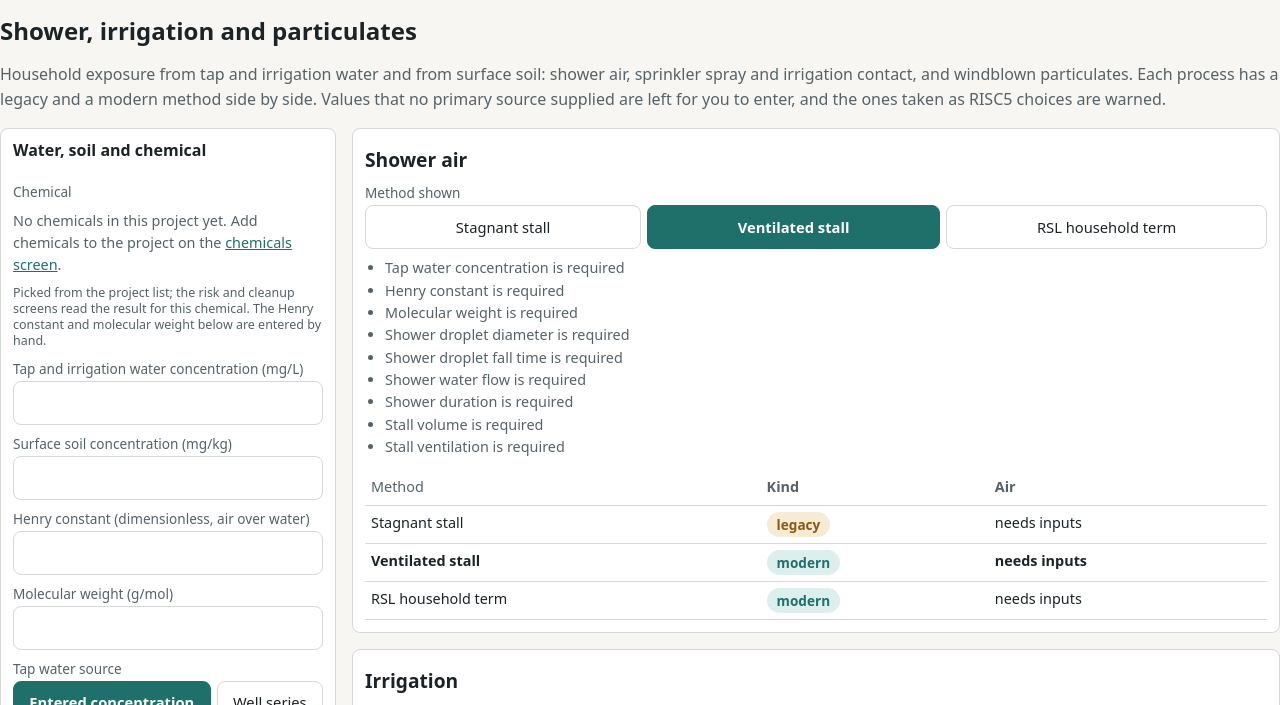
Test: HouseholdPage › flags an invalid number with an alert
Type "abc" into the field labelled "Henry constant (dimensionless, air over water)" at (168, 553), box [13,531,323,575]
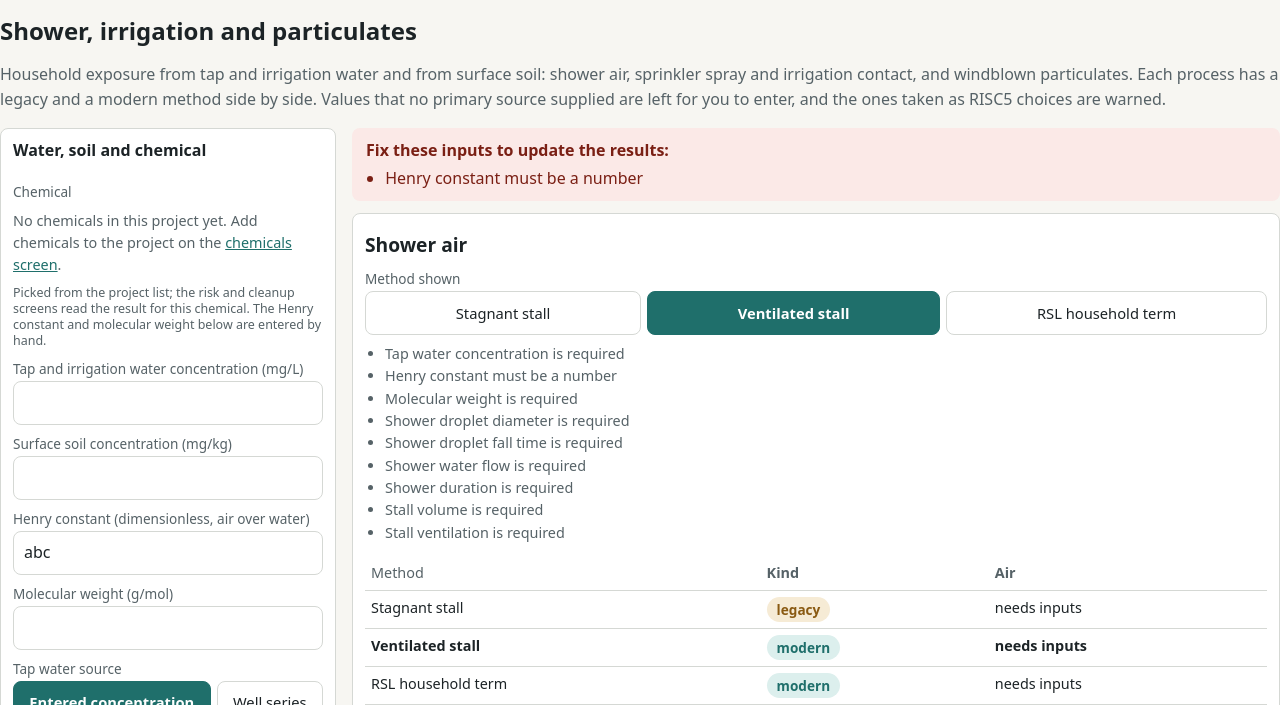
Expected: the message shows "Henry constant must be a number", [385,167,643,189]
